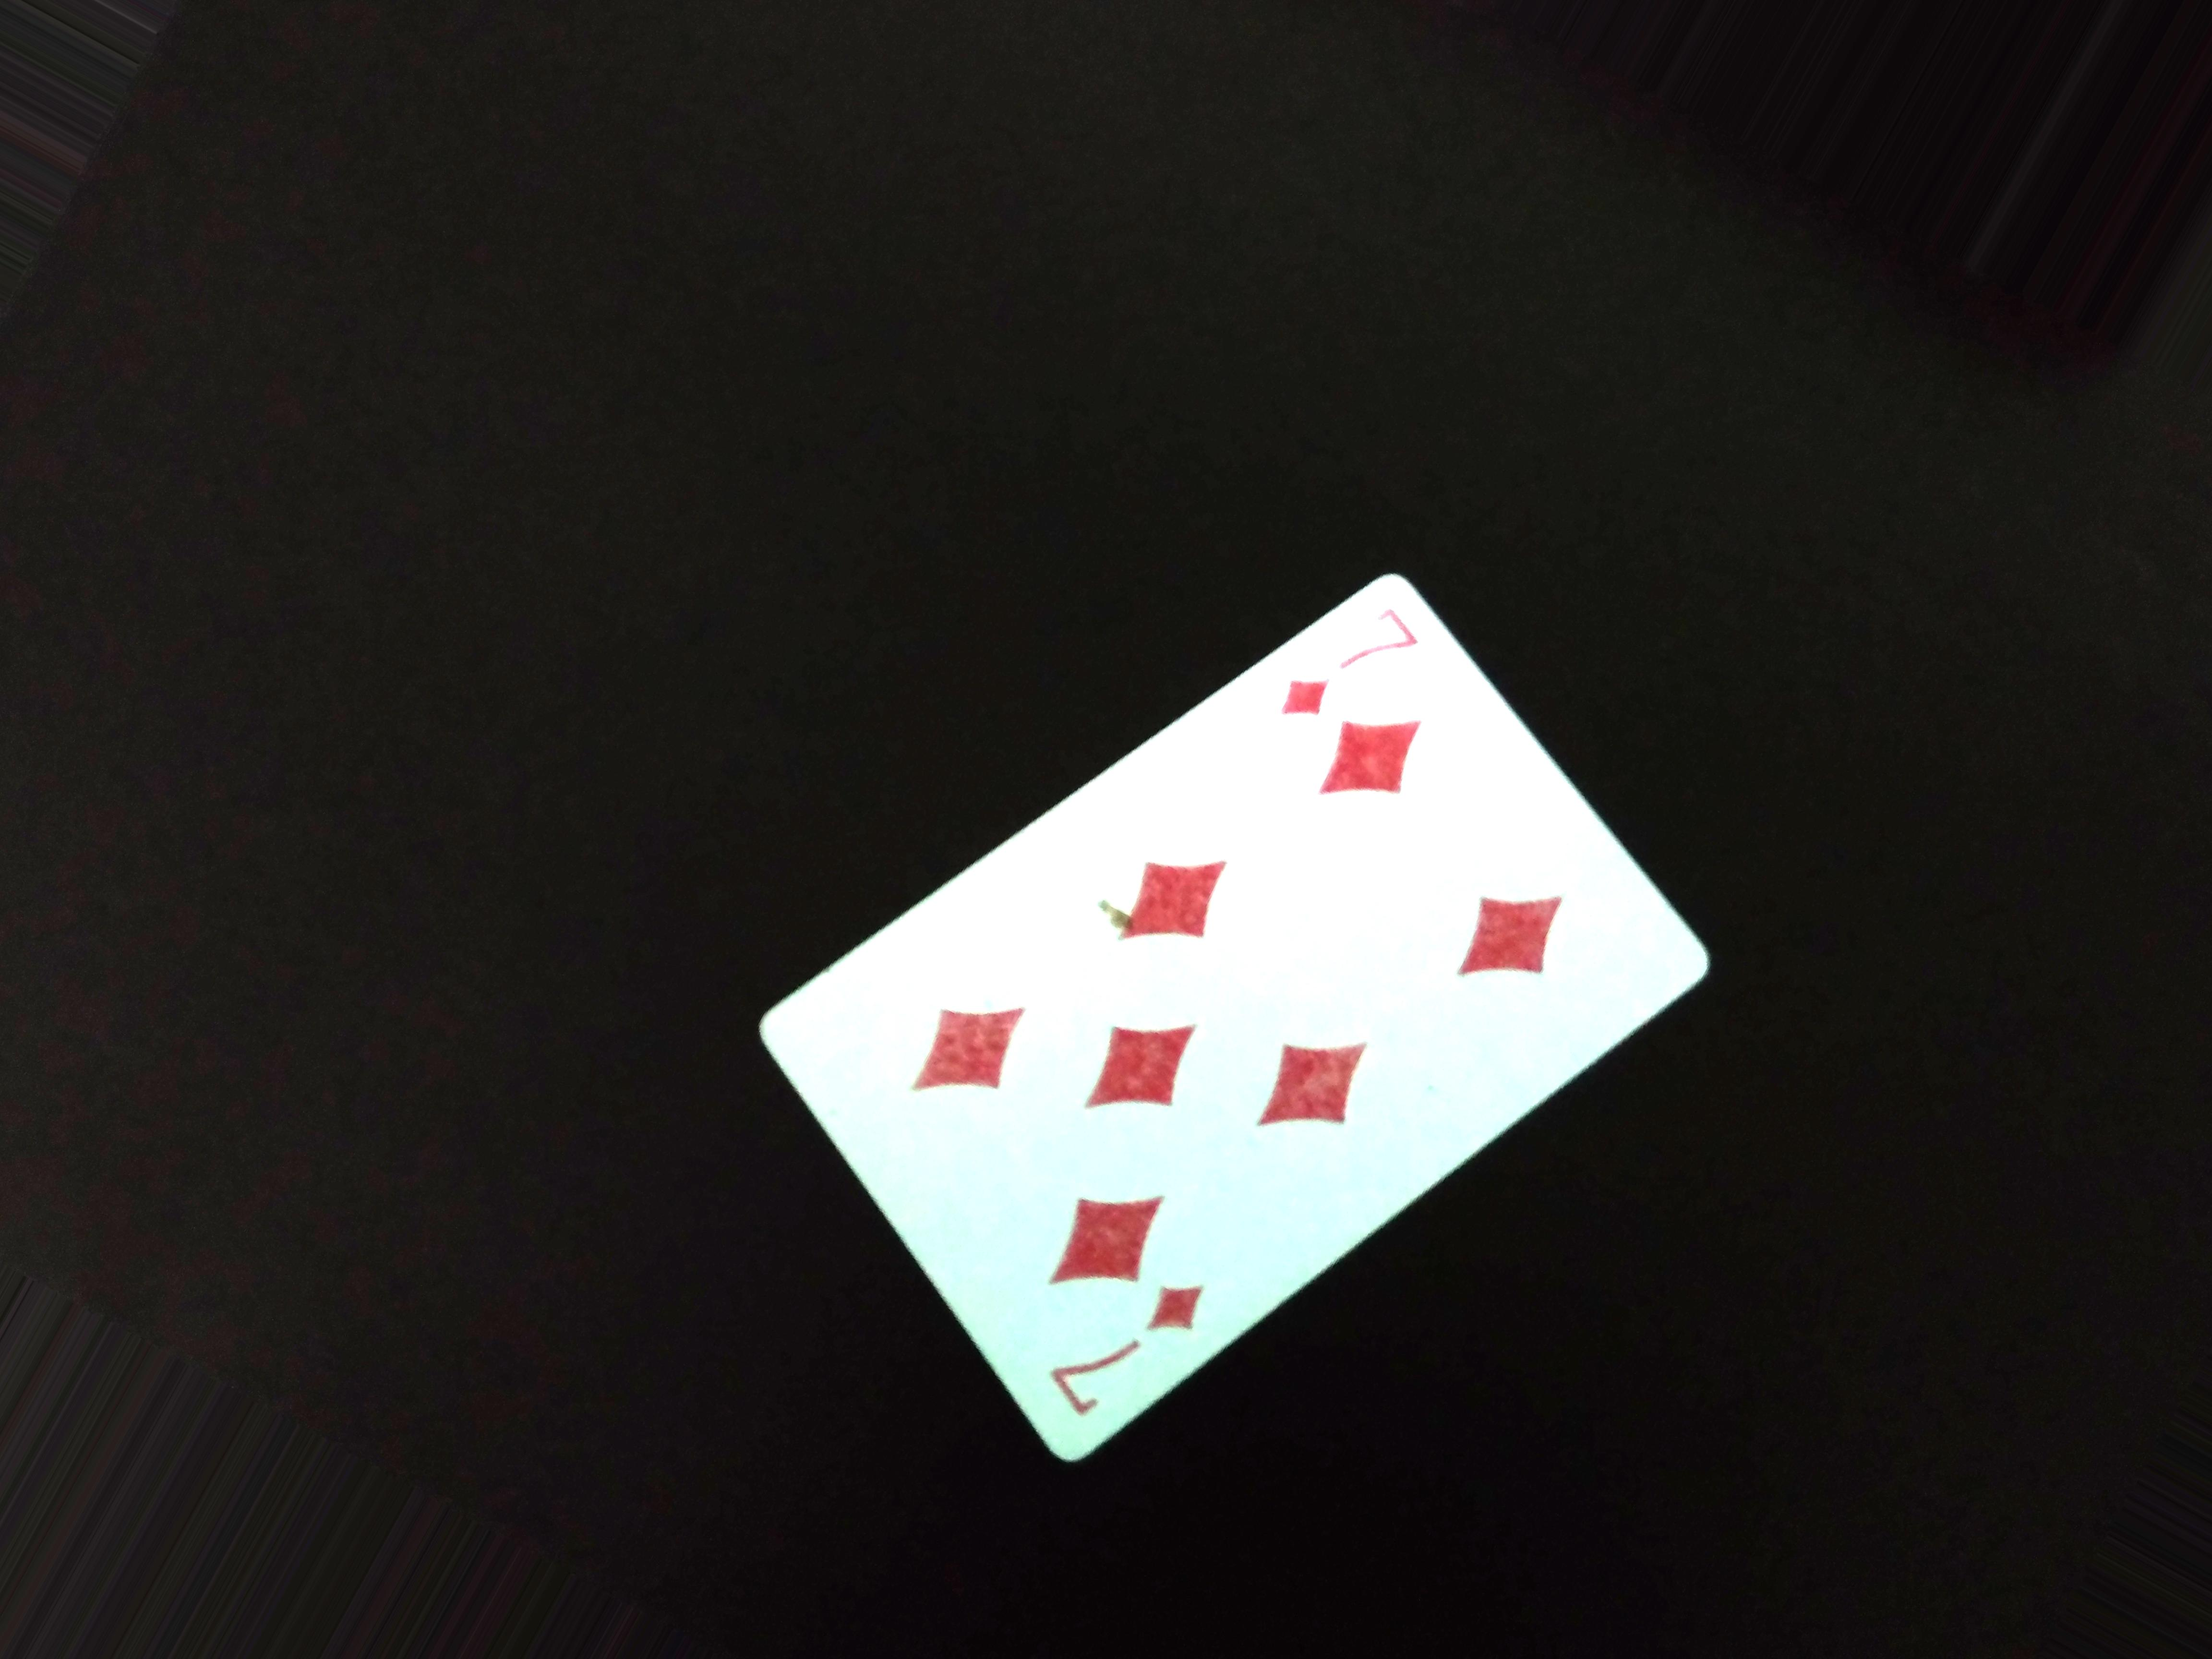7D: (1270, 620, 1418, 723)
